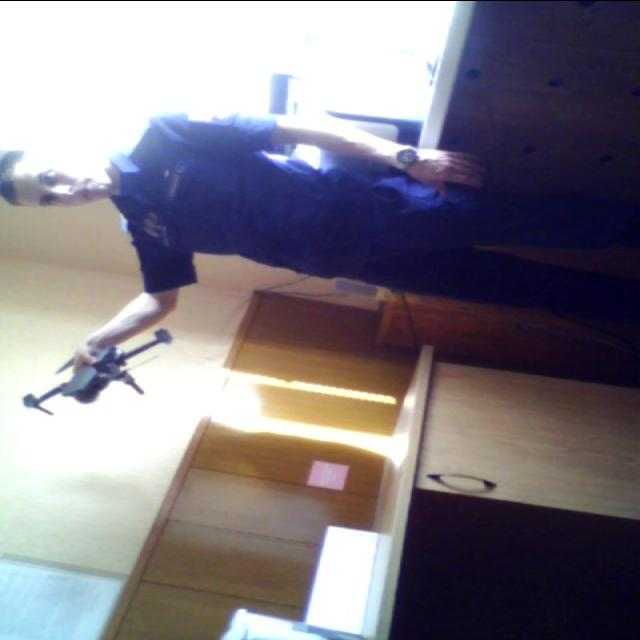drone: (20, 321, 174, 418)
